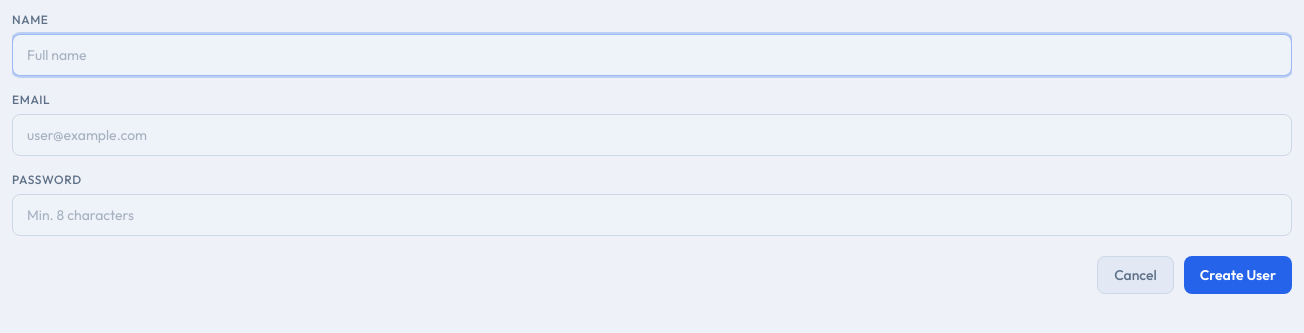
Test: UserForm — validation › shows a password error when password is too short
The image size is (1304, 333).
Type "Test User" into the field with placeholder "Full name" at coordinates (652, 55), box 12,34 -> 1292,76
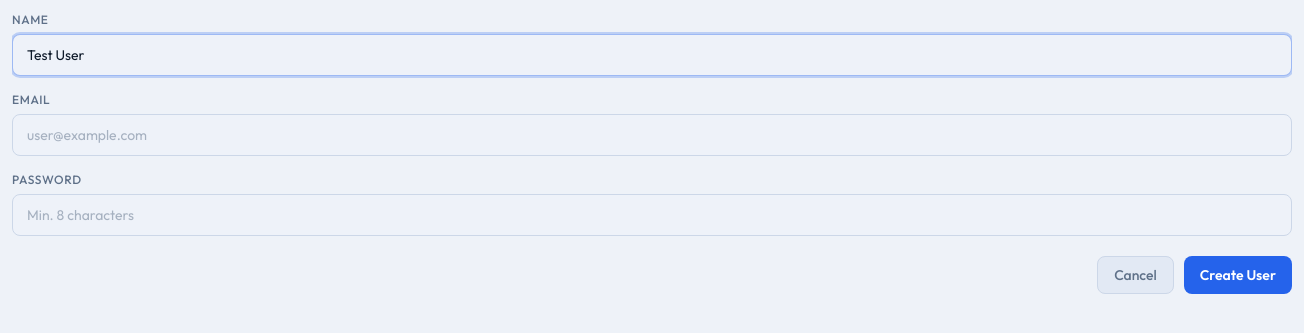
Type "test@example.com" into the field with placeholder "user@example.com" at coordinates (652, 135), box 12,114 -> 1292,156
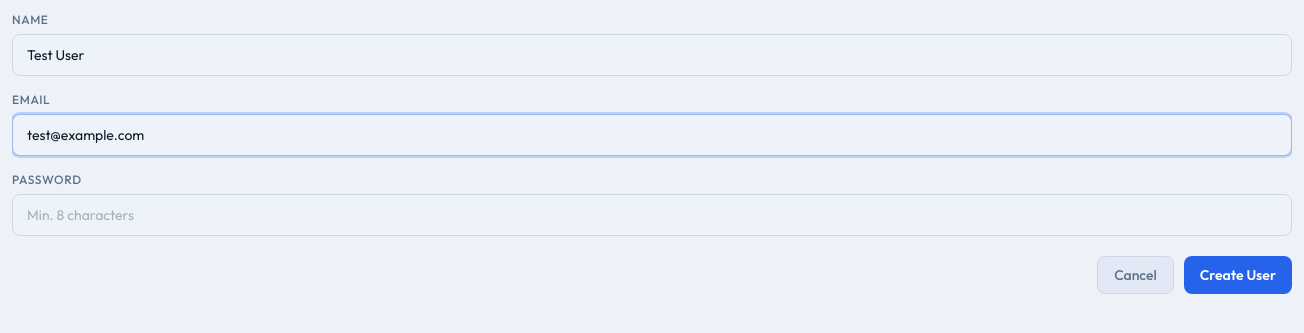
Type "short" into the password field with placeholder "Min. 8 characters" at coordinates (652, 215), box 12,194 -> 1292,236
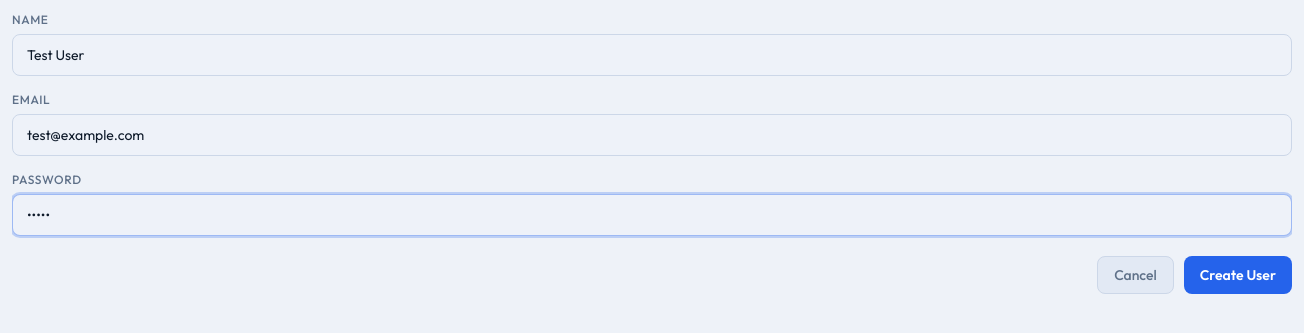
Click the button "Create User" at coordinates (1238, 275), box 1184,256 -> 1292,294
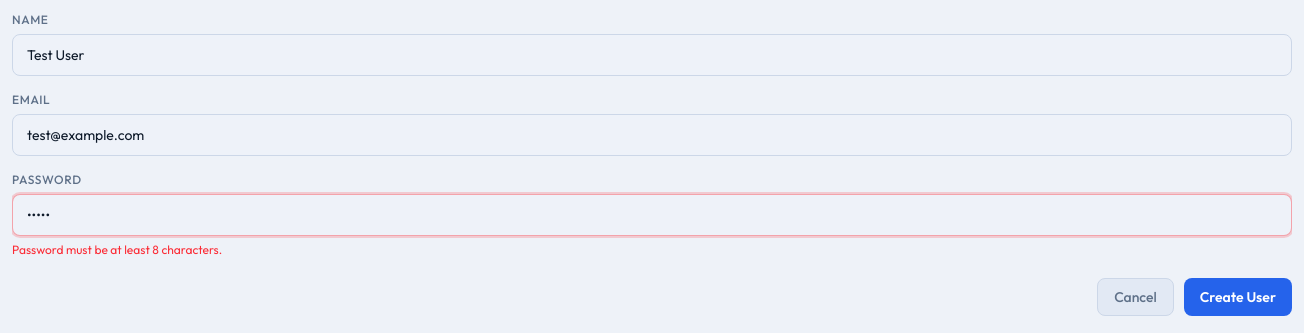
Expected: the text "Password must be at least 8 characters." is shown, 12,242 -> 222,257
